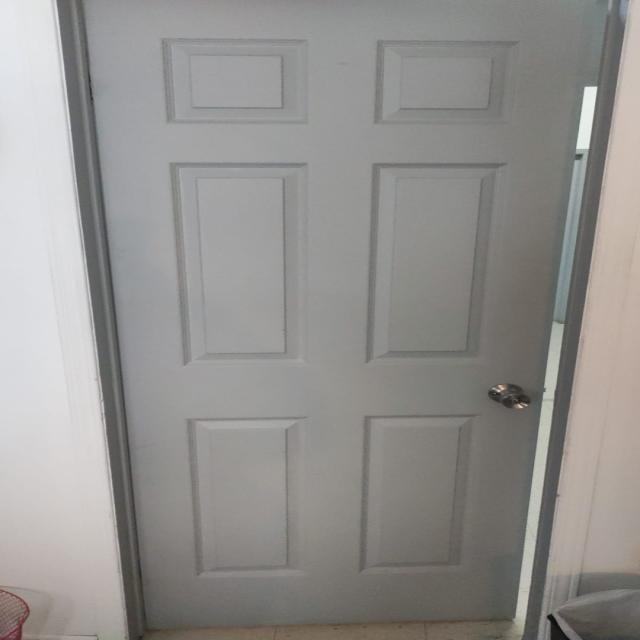door-knob: (489, 384, 531, 409)
